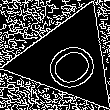O_NE: (32, 26, 104, 92)
